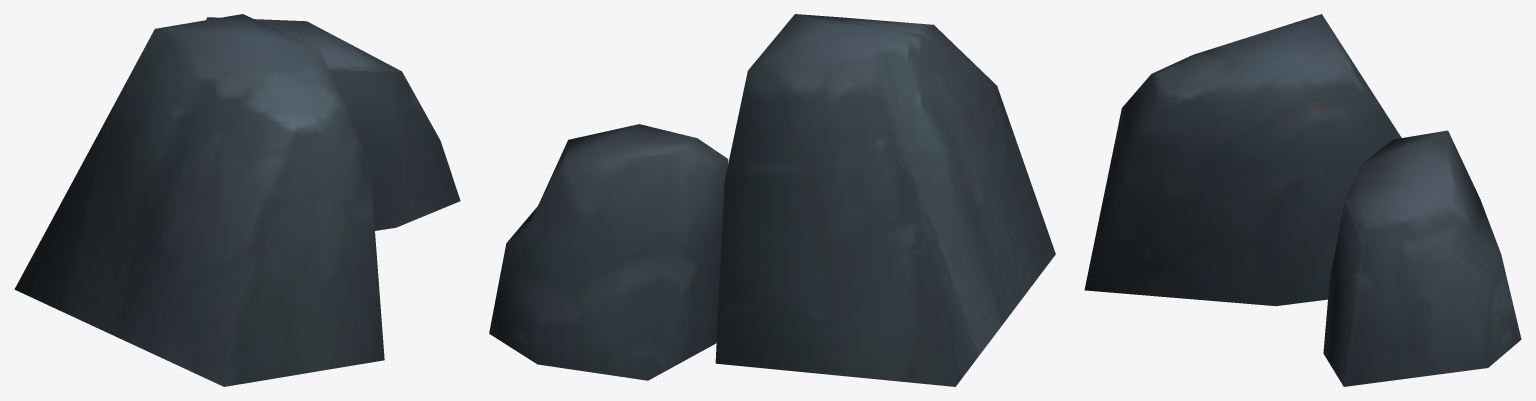
Rendered from Area_05_21.fbx.
3 renders of one model, left to right at view 1: azimuth 30°, elevation 25°; view 2: azimuth 150°, elevation 25°; view 3: azimuth 270°, elevation 25°, orthographic. The views are drawn at different scales.
Parts seen in each view (by area): view 1: Area_05_21; view 2: Area_05_21; view 3: Area_05_21.
Boxes of the visible parts, left/top/right/bottom form: Area_05_21: left=14, top=14, right=460, bottom=386; Area_05_21: left=489, top=14, right=1055, bottom=386; Area_05_21: left=1084, top=14, right=1521, bottom=386.
Bounding box in the file's own units: 1032 × 601 × 1020.
